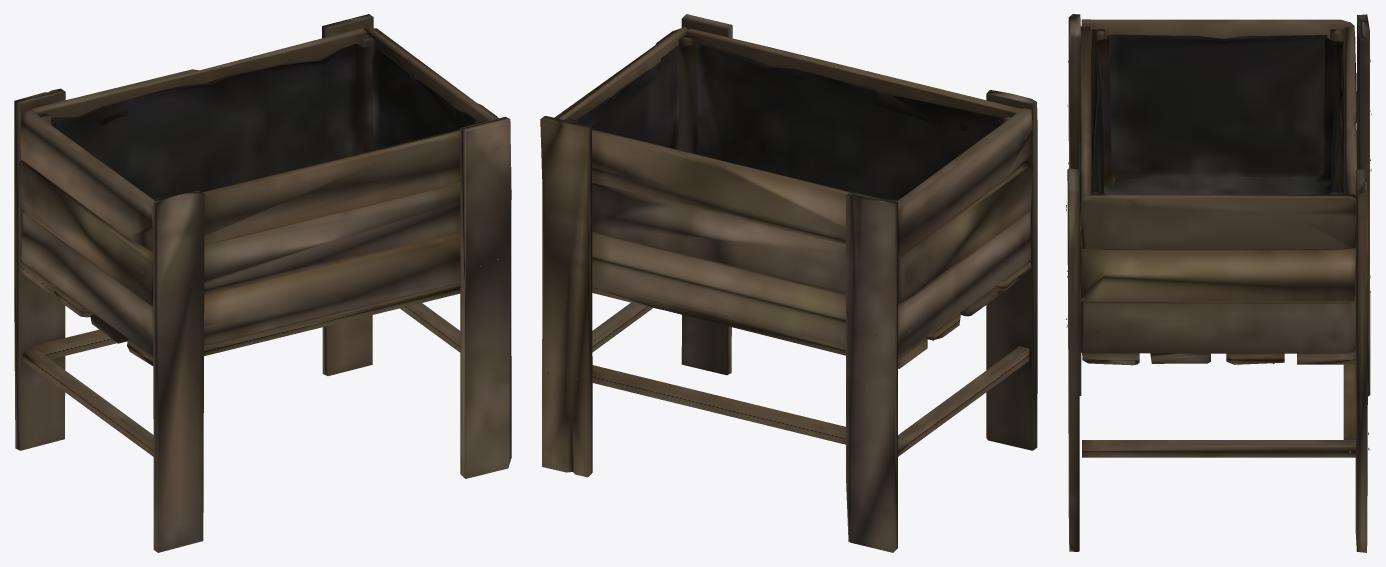
File: jardiniere_haute_bois_lod1.glb
3 views of the same model, side by side, from view 1: azimuth 30°, elevation 25°; view 2: azimuth 150°, elevation 25°; view 3: azimuth 270°, elevation 25° (orthographic). The views are drawn at different scales.
Parts seen in each view (by area): view 1: planter_box_03; view 2: planter_box_03; view 3: planter_box_03.
Part boxes in pixels (x1,y1,x2,y2): planter_box_03: (14,14,511,552); planter_box_03: (540,14,1037,552); planter_box_03: (1066,14,1371,552).
Size of the model in its own units: 0.9139 by 0.8545 by 0.6548.
Materials: 1 (1 with a texture image).
